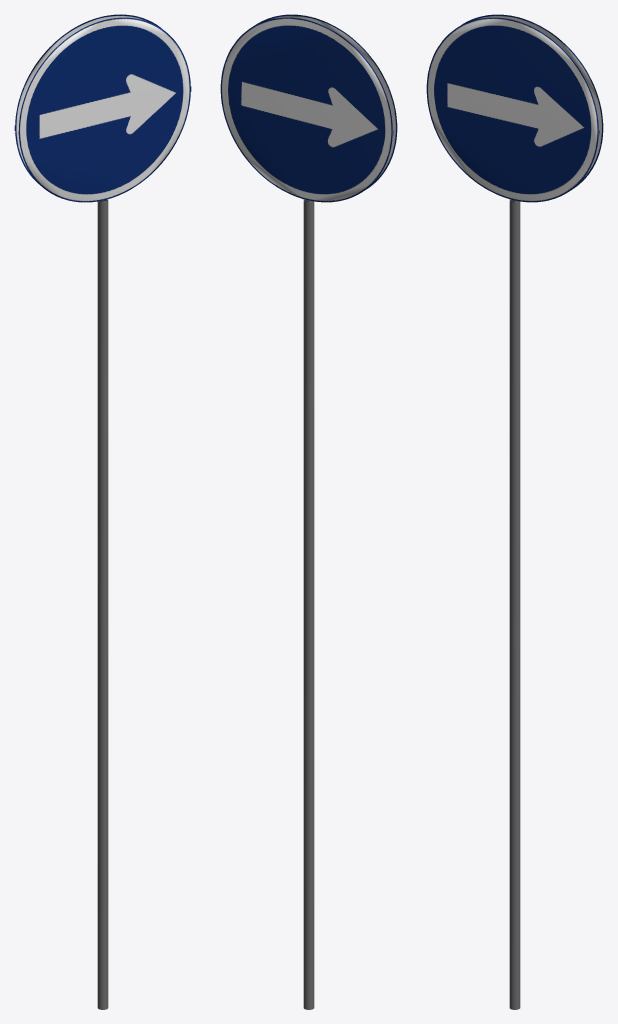
Rendered from tabela.dae.
3 renders of one model, left to right at view 1: azimuth 30°, elevation 25°; view 2: azimuth 150°, elevation 25°; view 3: azimuth 330°, elevation 25°, orthographic.
Parts seen in each view (by area): view 1: Yuvarlak İşaret; view 2: Yuvarlak İşaret; view 3: Yuvarlak İşaret.
Boxes of the visible parts, box(x1,y1,x2,y2) form: Yuvarlak İşaret: box(14, 14, 191, 1009); Yuvarlak İşaret: box(220, 14, 397, 1009); Yuvarlak İşaret: box(426, 14, 603, 1009).
Bounding box in the file's own units: 0.45 × 0.0242 × 2.45.
Materials: 2 (1 with a texture image).
